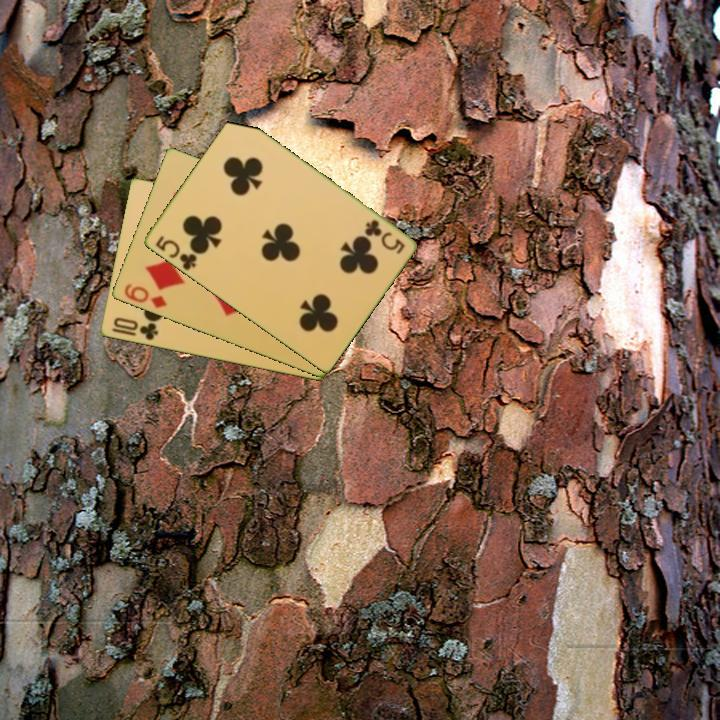10c: (110, 314, 161, 343)
5c: (151, 232, 201, 273), (360, 216, 407, 257)
6d: (120, 280, 169, 311)
